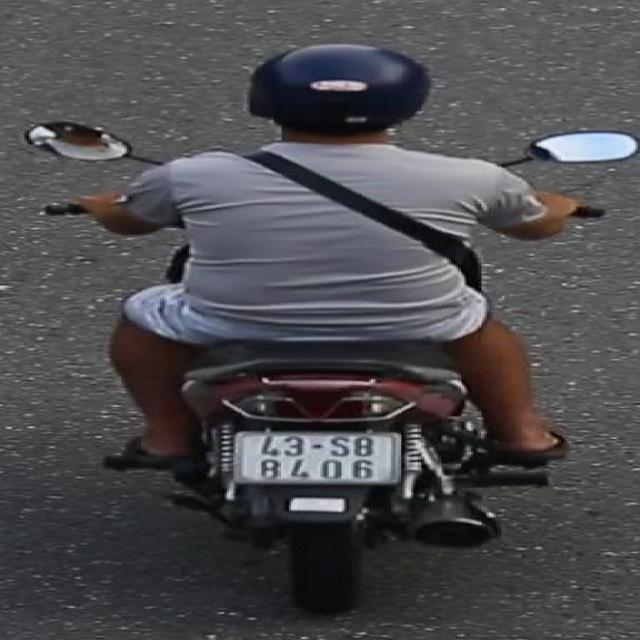LP: (230, 428, 410, 491)
helmet: (240, 36, 442, 160)
